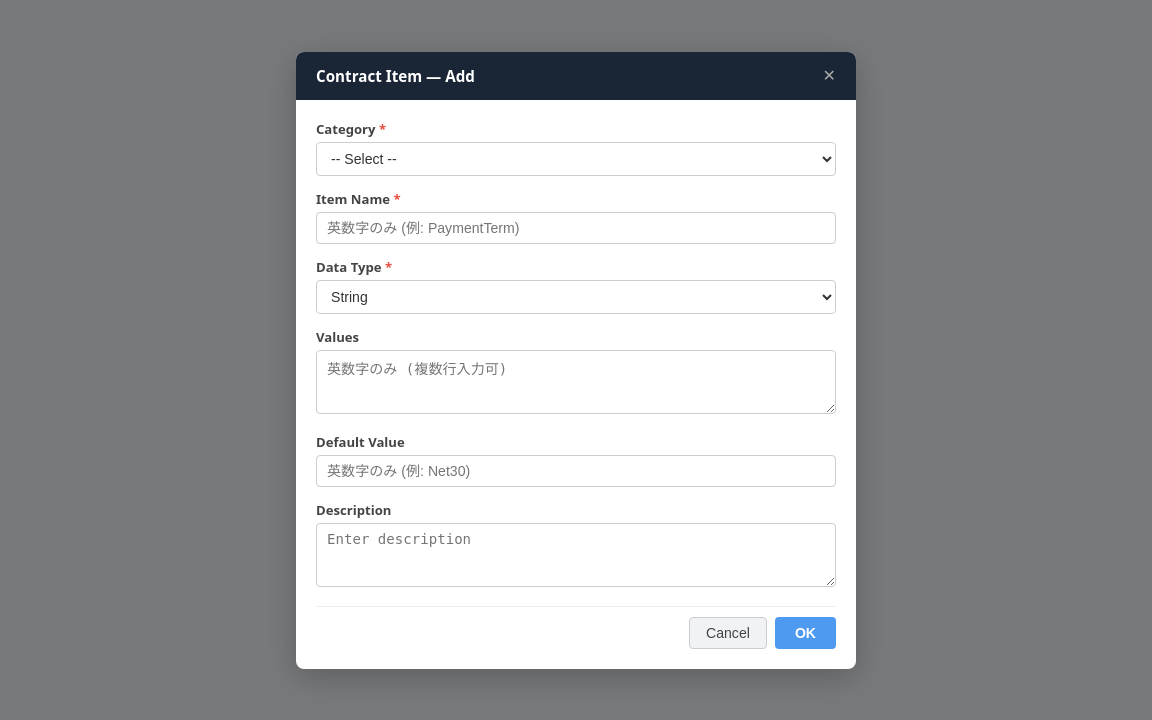
Test: ContractItemModal › shows required error for empty category
Type "PaymentTerm" into the field with placeholder "英数字のみ (例: PaymentTerm)" at (576, 228), box [316,212,836,244]
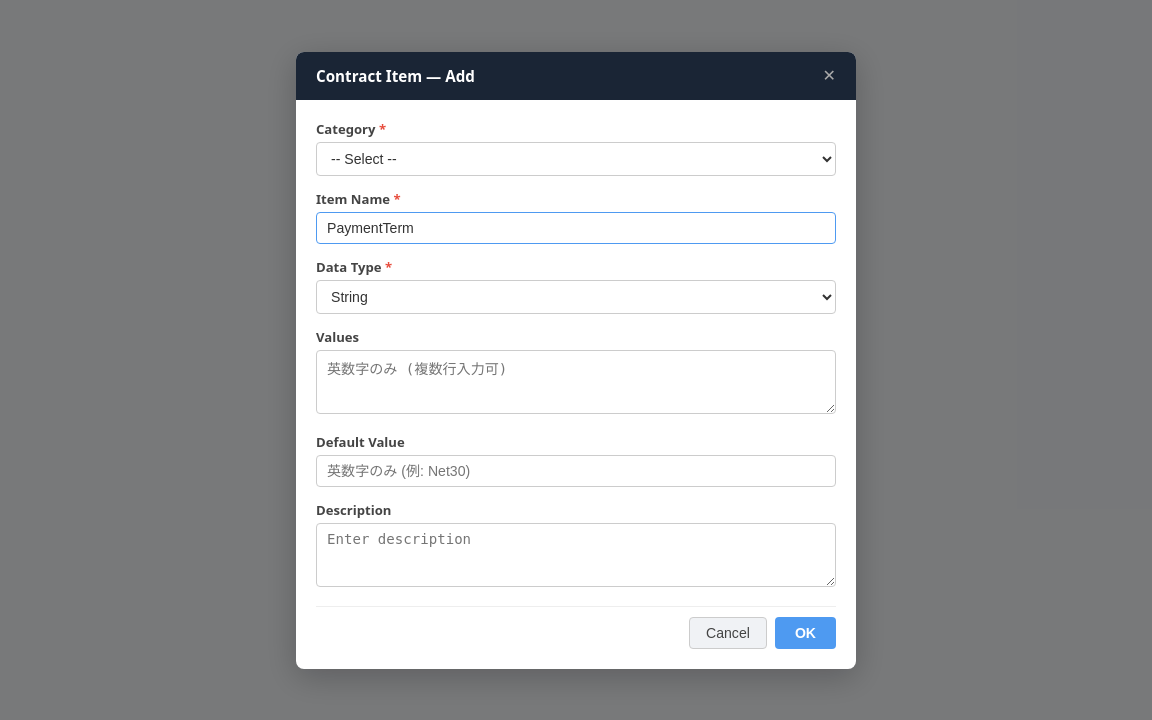
Click the button "OK" at (805, 632), box [775,616,836,648]
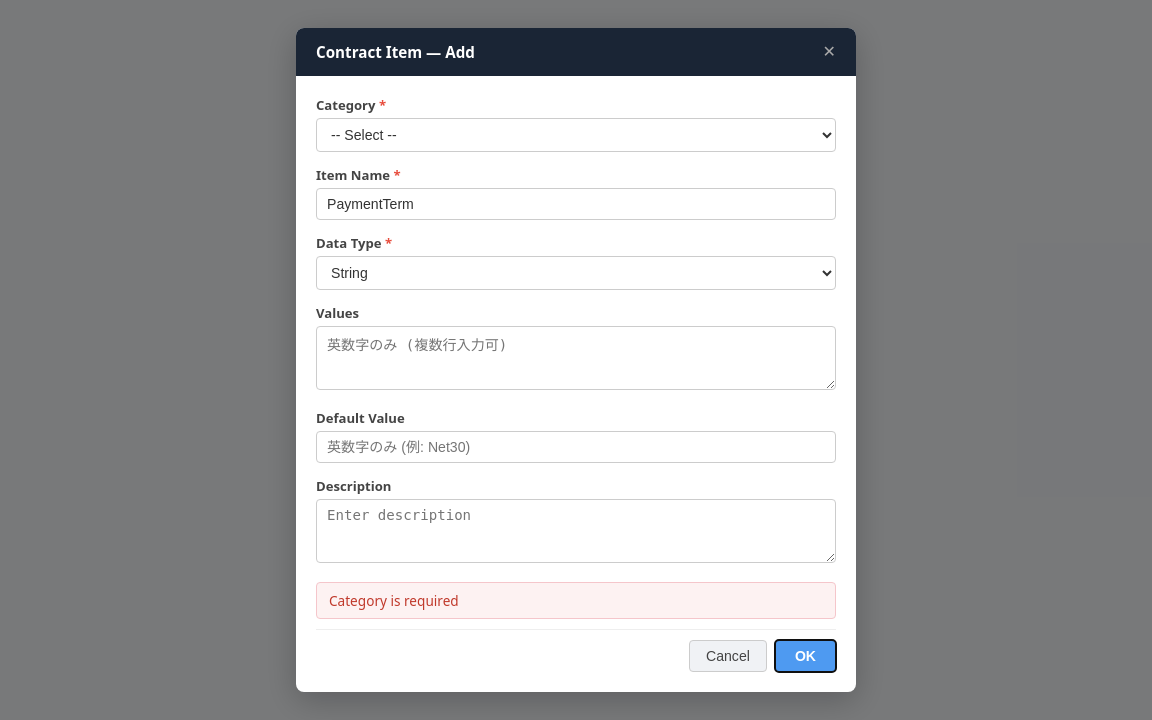
Check: the text "Category is required" is shown, box [316,582,836,619]
